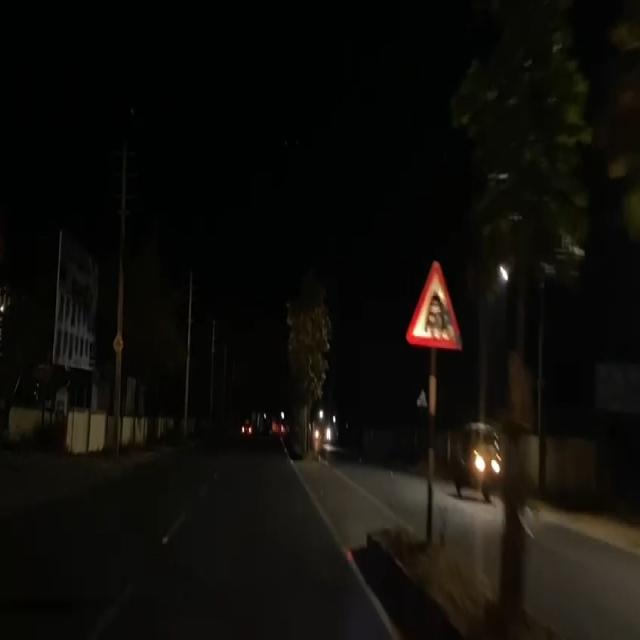bien_cam: (405, 255, 464, 355)
